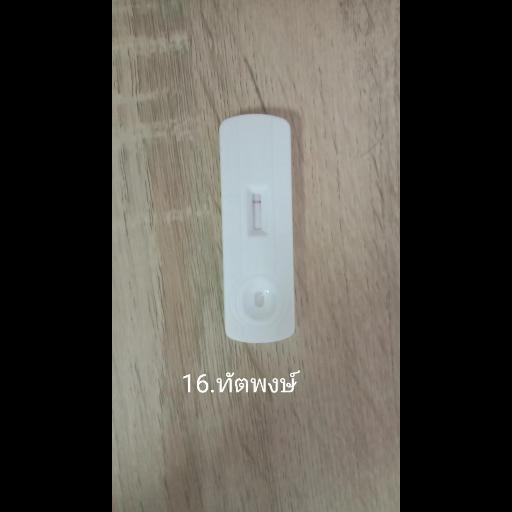Neg: (219, 114, 293, 342)
